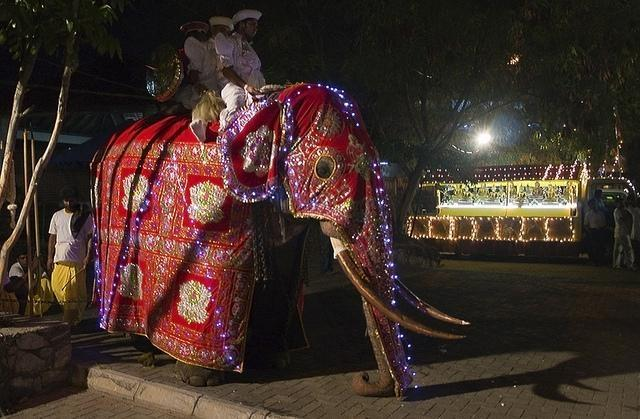truck: (408, 163, 638, 257)
